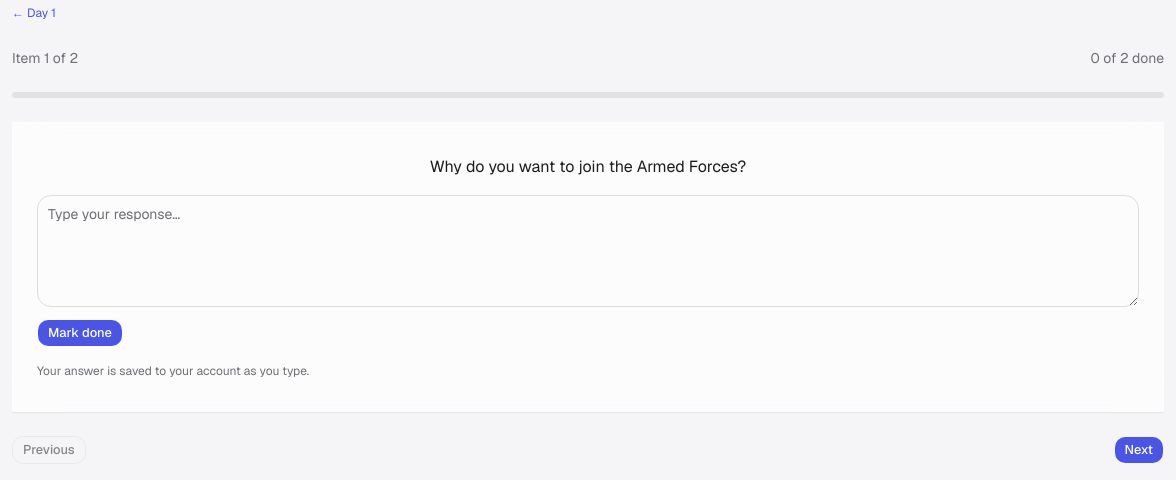
Test case: BankPracticeRunner (free-text) › a failed save keeps the text and offers a retry (never loses input)
Type "Keep me" into the text box named "Your answer".
click(588, 251); type("Keep me")  # box [37,195,1139,307]
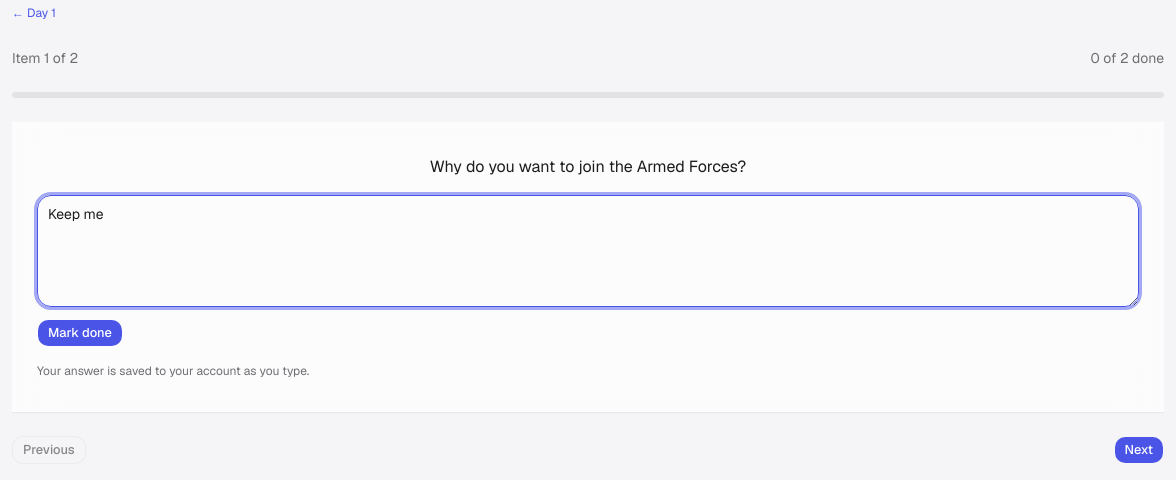
Click the button "Mark done".
click(80, 333)  # box [37,319,123,347]
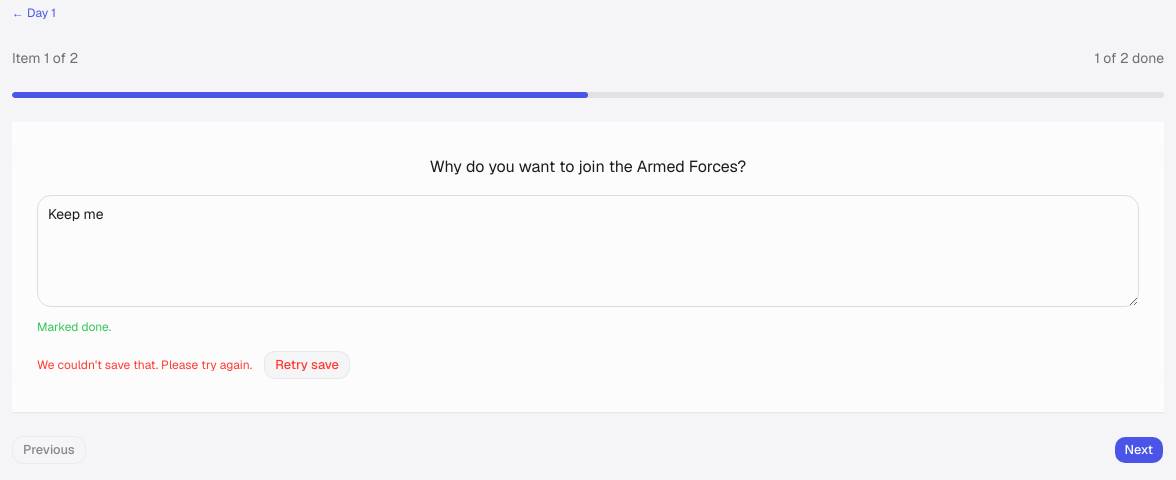
Result: the message shows "We couldn't save that" at [37,357,252,373]
Click the button "Retry save".
click(307, 365)  # box [264,351,350,379]
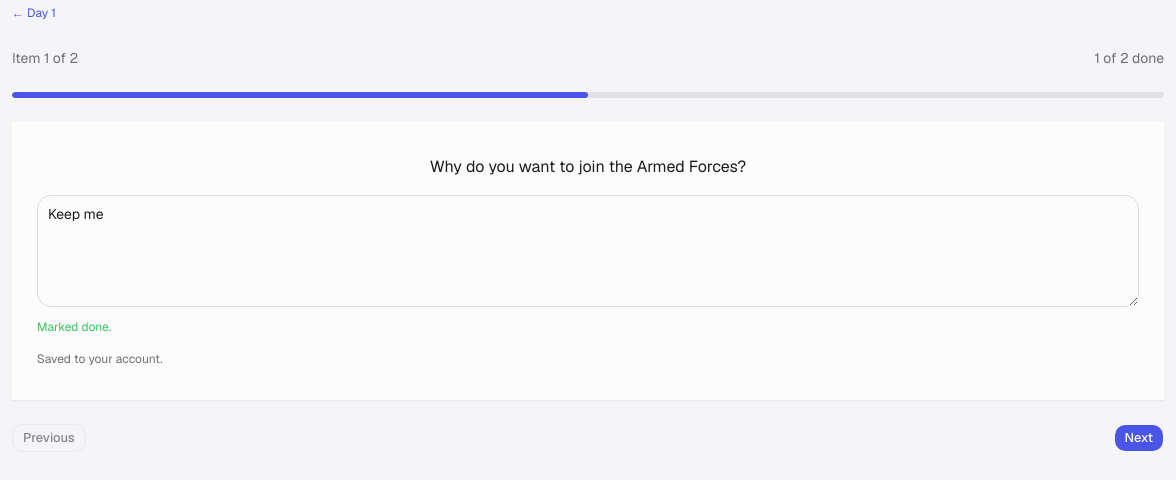
Result: the message "We couldn't save that. Please try again. Retry save" is gone
